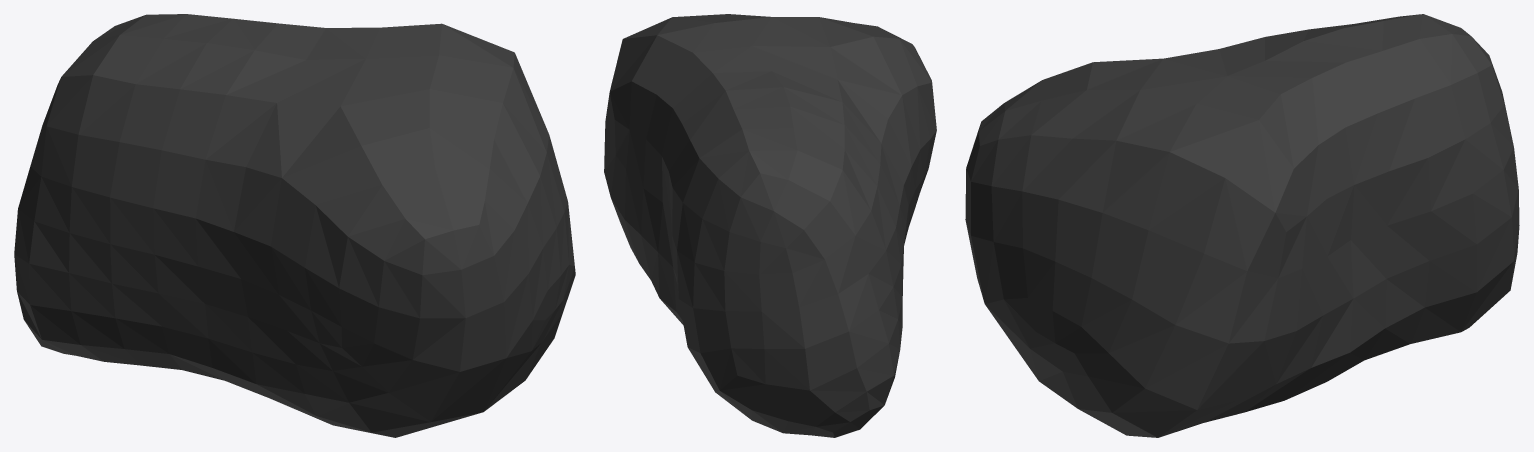
Rendered from LFL_carpal6.glb.
3 views of the same model, side by side, from view 1: azimuth 30°, elevation 25°; view 2: azimuth 150°, elevation 25°; view 3: azimuth 270°, elevation 25° (orthographic). The views are drawn at different scales.
Parts seen in each view (by area): view 1: LFL_carpal6; view 2: LFL_carpal6; view 3: LFL_carpal6.
Part boxes in pixels (bbox=[...]): LFL_carpal6: bbox=[14, 14, 575, 437]; LFL_carpal6: bbox=[604, 14, 936, 437]; LFL_carpal6: bbox=[965, 14, 1519, 437].
Bounding box in the file's own units: 7.48 × 5.79 × 8.45.
Materials: 1 (1 with a texture image).
